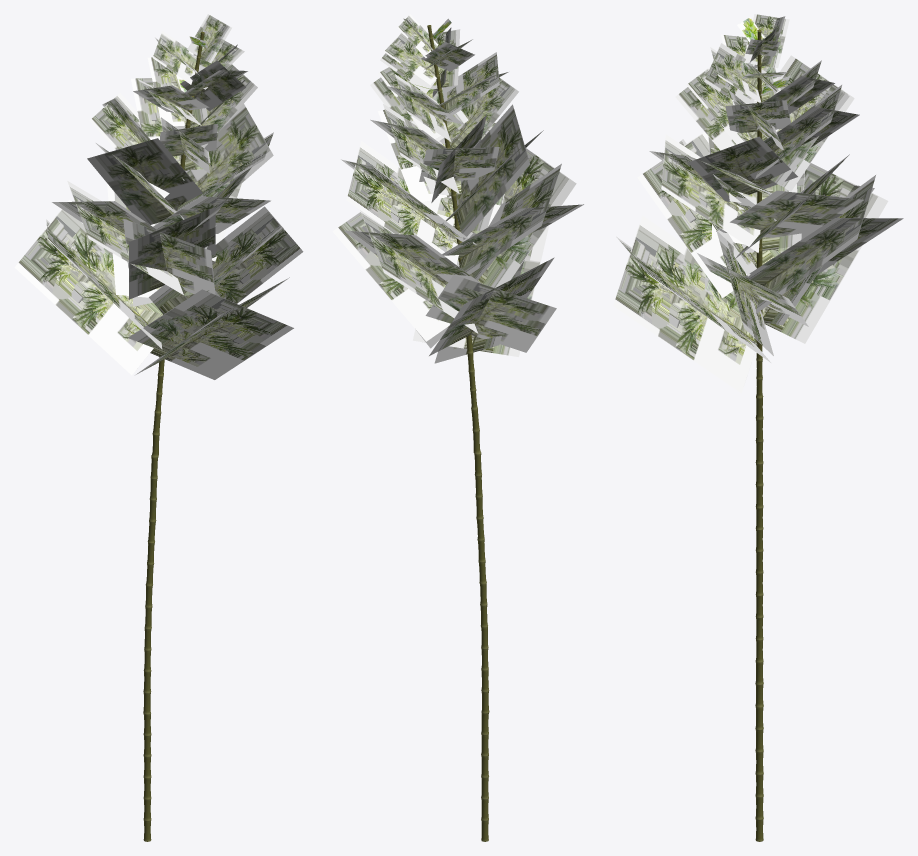
File: bamboo4.fbx
3 views of the same model, side by side, from view 1: azimuth 30°, elevation 25°; view 2: azimuth 150°, elevation 25°; view 3: azimuth 270°, elevation 25° (orthographic). The views are drawn at different scales.
Parts seen in each view (by area): view 1: polySurface86; view 2: polySurface86; view 3: polySurface86.
Part boxes in pixels (box(x1,y1,x2,y2)): polySurface86: box(14, 14, 303, 841); polySurface86: box(332, 14, 583, 841); polySurface86: box(613, 14, 903, 841).
Size of the model in its own units: 346 by 1058 by 329.
2 materials, 2 textured.
